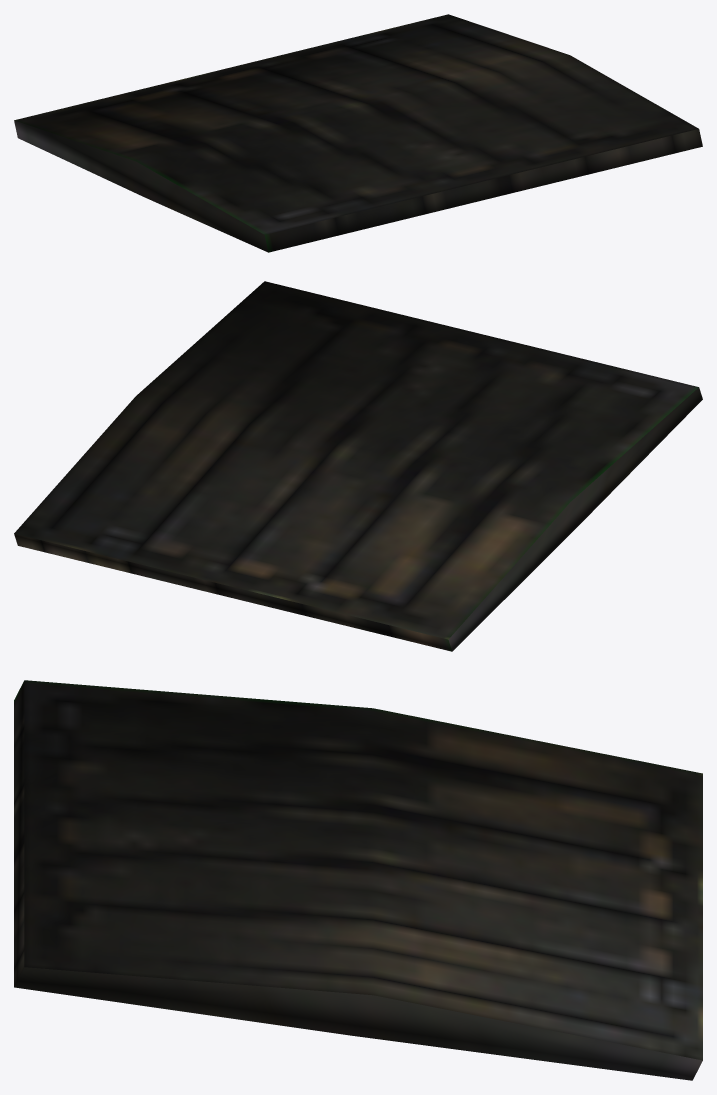
Rendered from dumpsterlid2.glb.
3 renders of one model, top to bottom at view 1: azimuth 30°, elevation 25°; view 2: azimuth 150°, elevation 25°; view 3: azimuth 270°, elevation 25°, orthographic. The views are drawn at different scales.
Parts seen in each view (by area): view 1: DumpsterLid2; view 2: DumpsterLid2; view 3: DumpsterLid2.
Part boxes in pixels (x1,y1,x2,y2): DumpsterLid2: (14, 14, 702, 252); DumpsterLid2: (14, 281, 702, 651); DumpsterLid2: (14, 680, 702, 1080).
Bounding box in the file's own units: 0.825 × 0.1523 × 0.837.
Materials: 1 (1 with a texture image).
